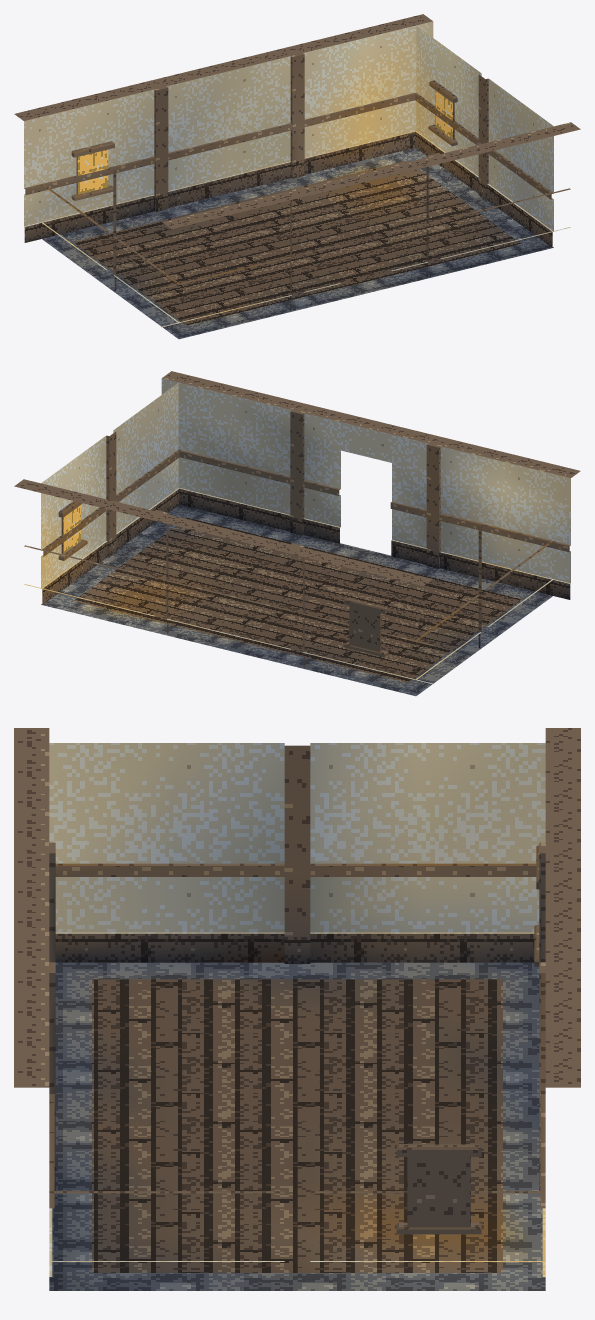
Rendered from vlg.room__taproom.glb.
3 renders of one model, top to bottom at view 1: azimuth 30°, elevation 25°; view 2: azimuth 150°, elevation 25°; view 3: azimuth 270°, elevation 25°, orthographic. The views are drawn at different scales.
Parts seen in each view (by area): view 1: kit_shell_walls, kit_shell_floor, kit_fittings; view 2: kit_shell_walls, kit_shell_floor, kit_fittings; view 3: kit_shell_floor, kit_shell_walls, kit_fittings.
Boxes of the visible parts, bbox=[...] form: kit_shell_walls: bbox=[14, 14, 580, 327]; kit_shell_floor: bbox=[42, 148, 553, 339]; kit_fittings: bbox=[71, 80, 457, 200]; kit_shell_walls: bbox=[14, 371, 580, 684]; kit_shell_floor: bbox=[41, 505, 552, 696]; kit_fittings: bbox=[58, 501, 388, 657]; kit_shell_floor: bbox=[49, 962, 545, 1290]; kit_shell_walls: bbox=[14, 728, 580, 1276]; kit_fittings: bbox=[396, 845, 539, 1234].
Size of the model in its own units: 12 by 3.4 by 8.
Materials: 6 (6 with a texture image).
